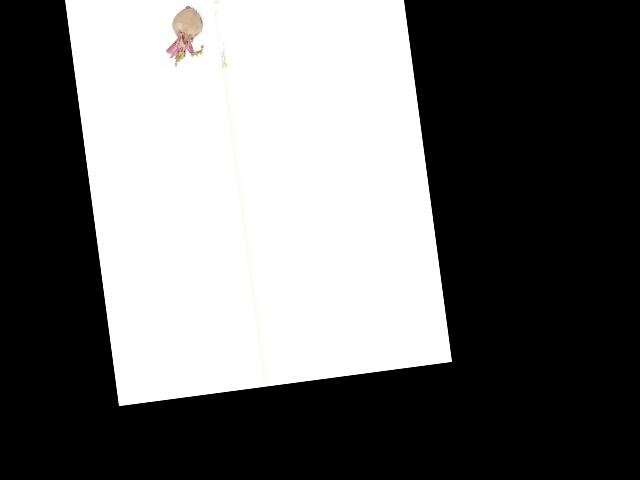beet: (160, 3, 207, 66)
